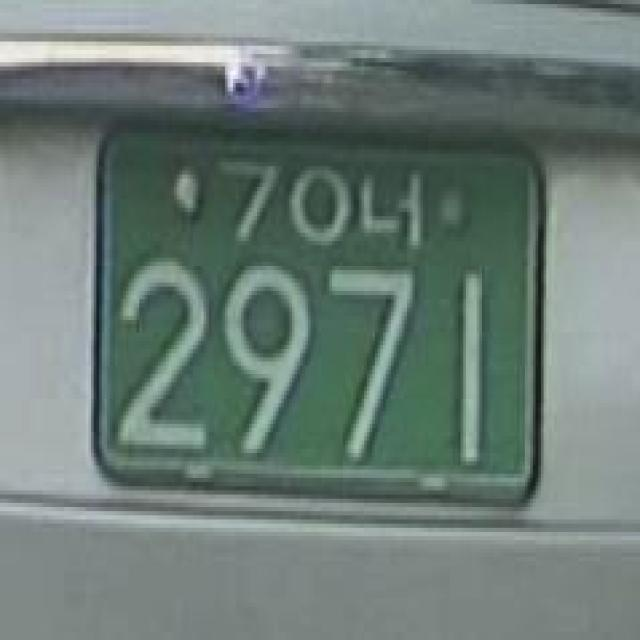illegal_plate: (78, 101, 567, 546)
